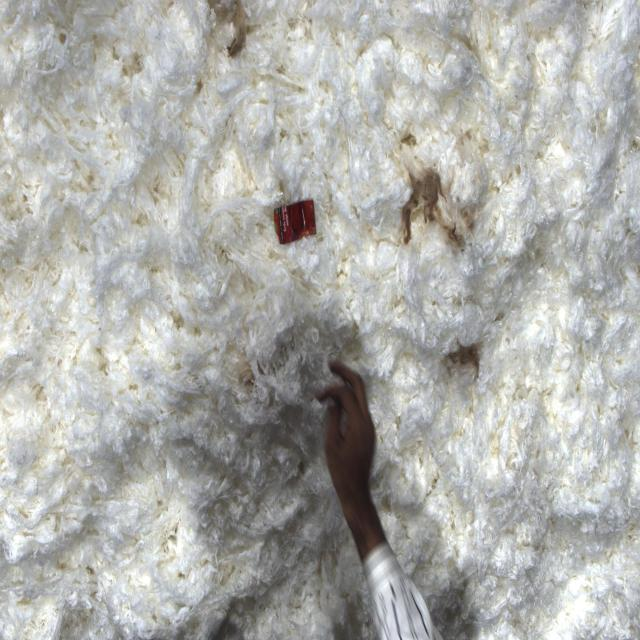dust: (292, 317, 419, 623), (391, 127, 470, 256), (197, 0, 261, 67), (270, 192, 320, 250), (444, 329, 485, 388)
